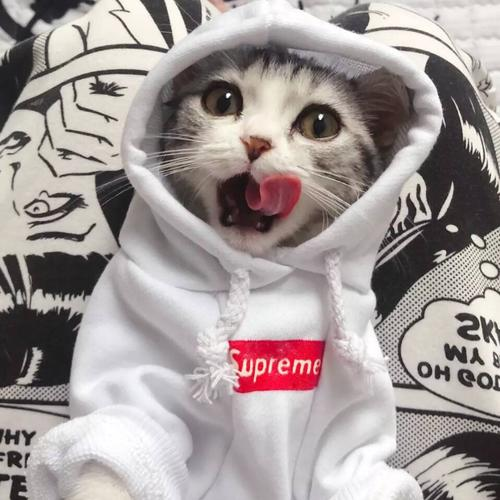cat: (132, 16, 440, 272)
